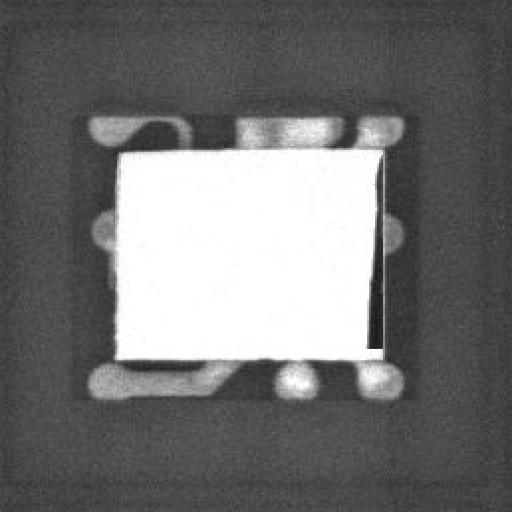DIE_BROKEN: (361, 154, 385, 350)
